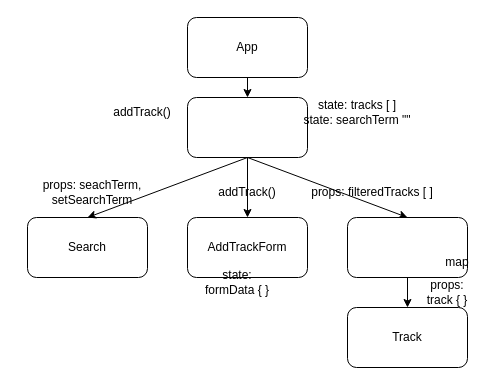
Some shapes in this 504 by 385 pixel diagram are drawn without their labels. The box of each missing label's shape, as (x1, y1, x2, y2) in pixels:
TracksList: (346, 216, 468, 278)
TracksPage: (186, 96, 308, 158)
